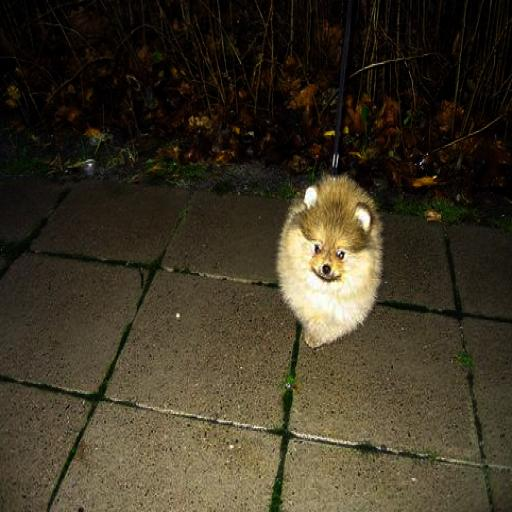dog_face: (291, 176, 374, 292)
